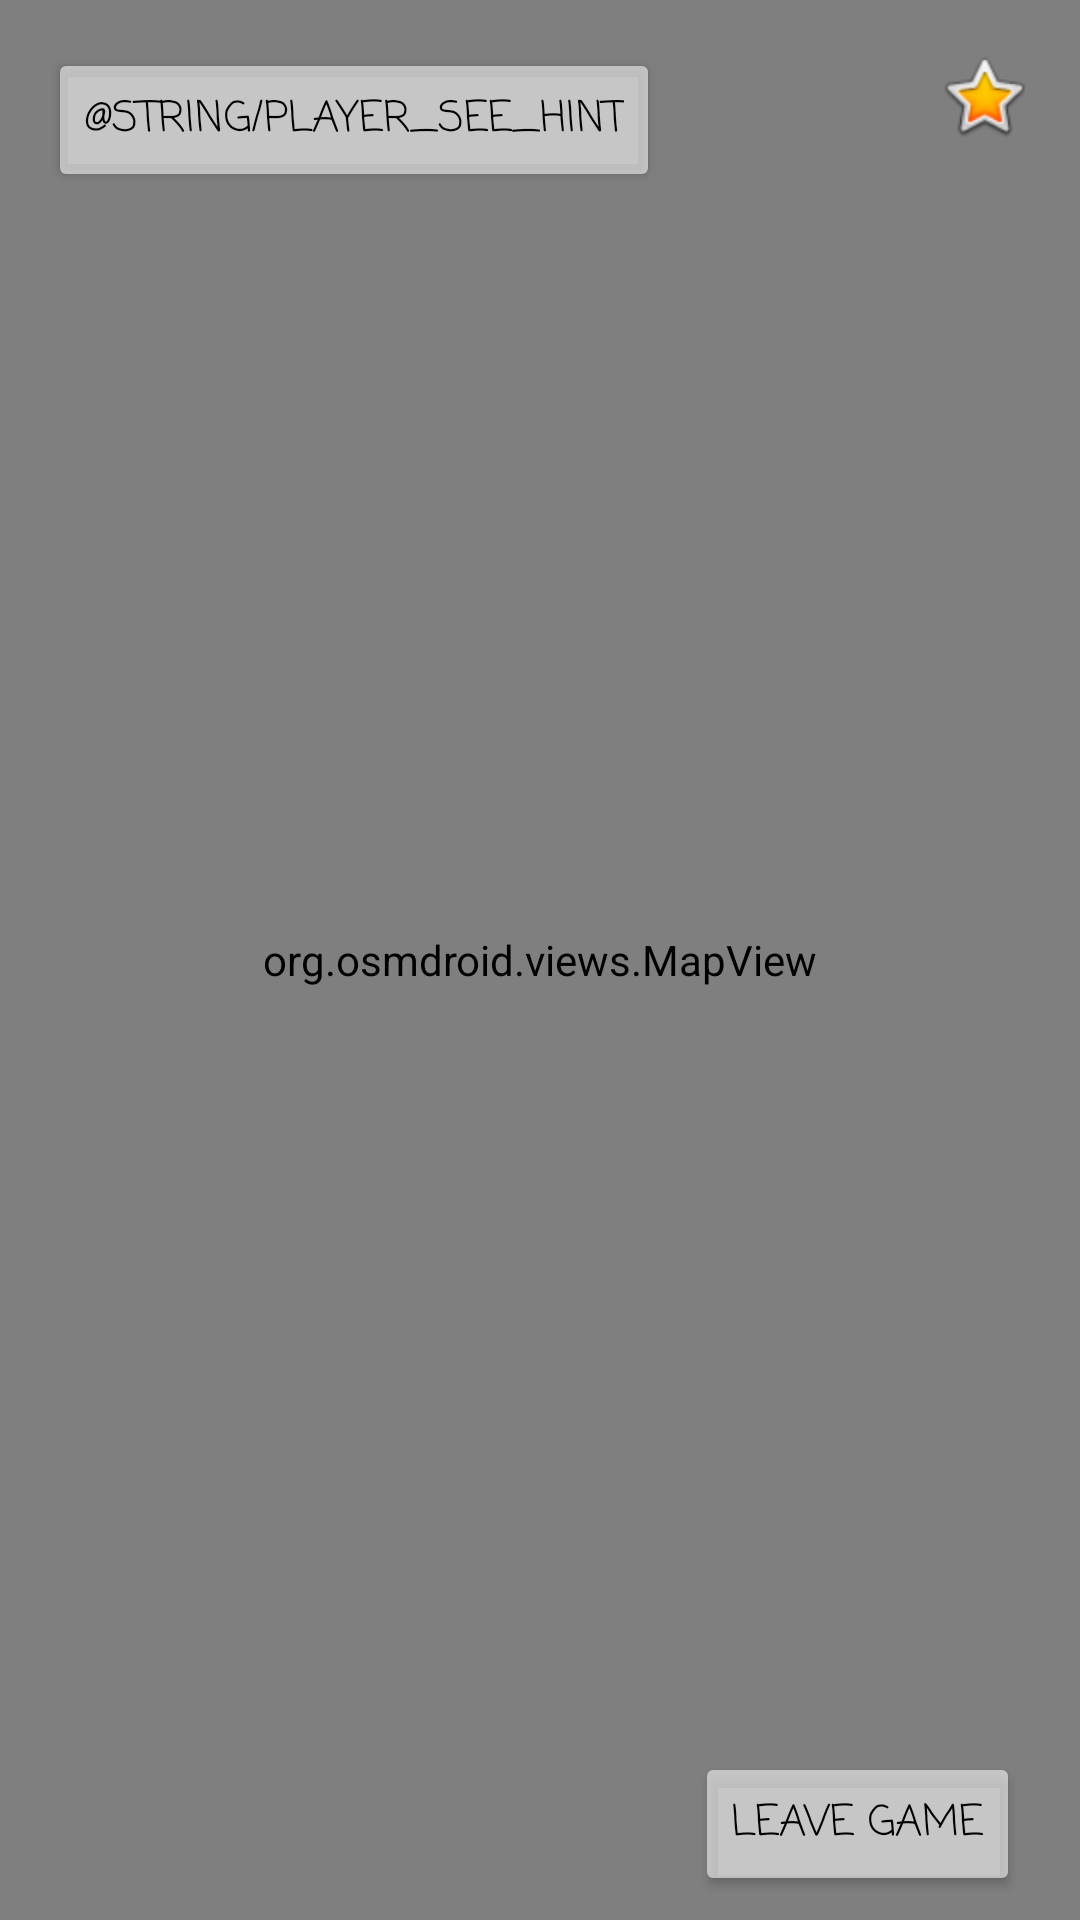

Named icons in this screenshot (1080×1920) and their bounding boxes, (x1, y1, x2, y2):
star on: (946, 60, 1024, 135)
